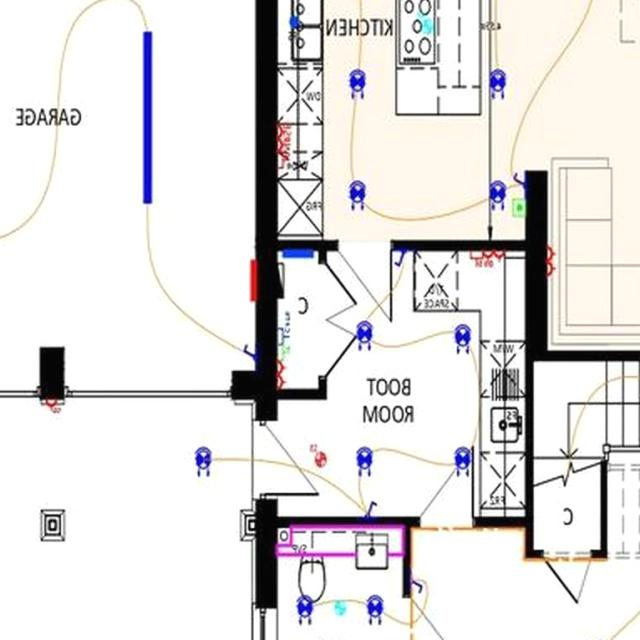Cat 6 Data Socket: (279, 310, 292, 343)
Ceiling Mounted Continuous Extract FanWith Boost Mode Activated By Light Switch: (336, 600, 347, 614)
Ceiling Mounted Continuous Extract FanWith Local Boost Switch: (310, 443, 326, 466)
Consumer Unit: (278, 262, 285, 298)
Double Socket: (548, 245, 558, 276), (278, 359, 288, 387)
Electric Meter Box: (251, 259, 257, 300)
Fused spur: (46, 398, 62, 412)
Light Switch: (394, 250, 410, 266), (365, 500, 379, 516), (513, 172, 526, 186), (244, 344, 256, 359), (412, 578, 424, 593)
Low Energy Downlighter: (490, 180, 508, 210), (490, 68, 507, 99), (350, 68, 367, 98), (455, 324, 472, 354), (455, 446, 472, 476), (196, 446, 213, 476), (297, 594, 313, 625), (350, 180, 367, 209), (357, 320, 374, 349), (358, 446, 374, 476), (368, 595, 384, 623)
Oven Switch: (470, 250, 484, 266)
Recirculating Extractor Fan: (417, 10, 433, 33)
Telephone Socket: (278, 344, 291, 359)
Twin LED Strip Light: (143, 31, 153, 204)
USB Double Socket: (278, 122, 292, 150), (484, 250, 504, 266)
Underfloor Heating Manifold: (283, 248, 314, 257)
Water Entry Position: (290, 16, 300, 26)
